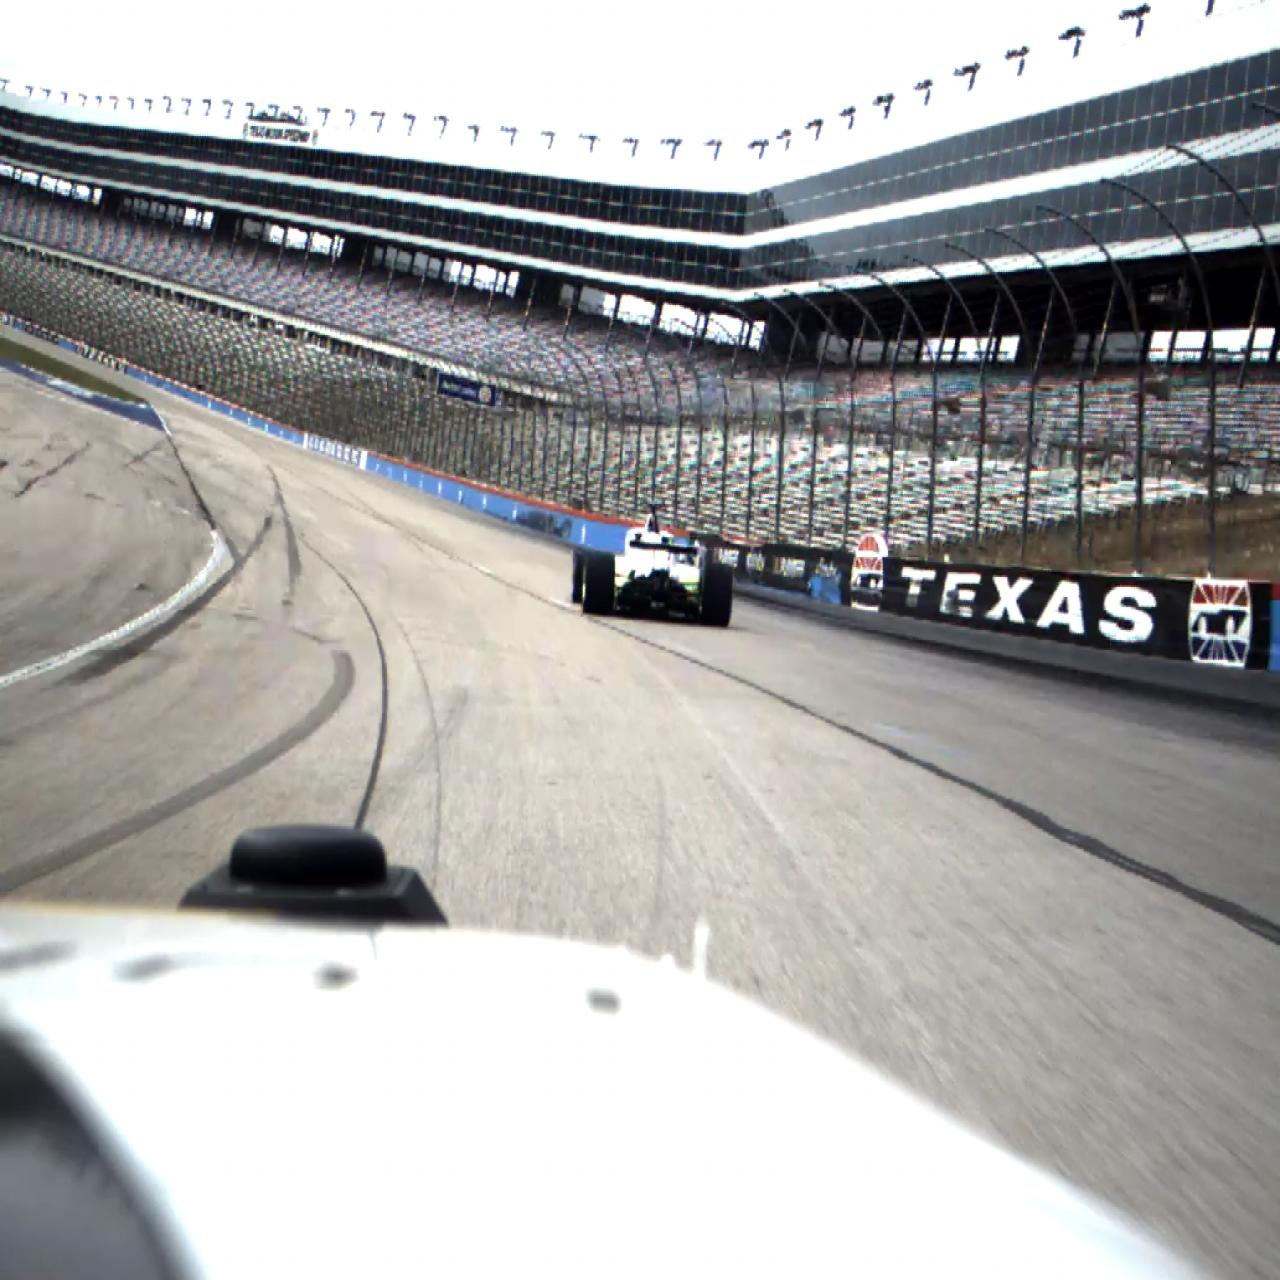AV: (571, 502, 733, 627)
Wheel: (583, 553, 615, 614), (703, 561, 731, 626), (572, 549, 595, 602)
